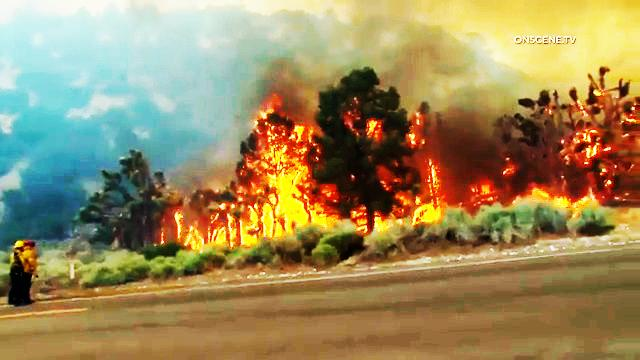fire: (248, 118, 313, 232), (413, 174, 449, 225), (167, 214, 231, 238), (545, 184, 559, 209)
smoke: (262, 7, 495, 70)
